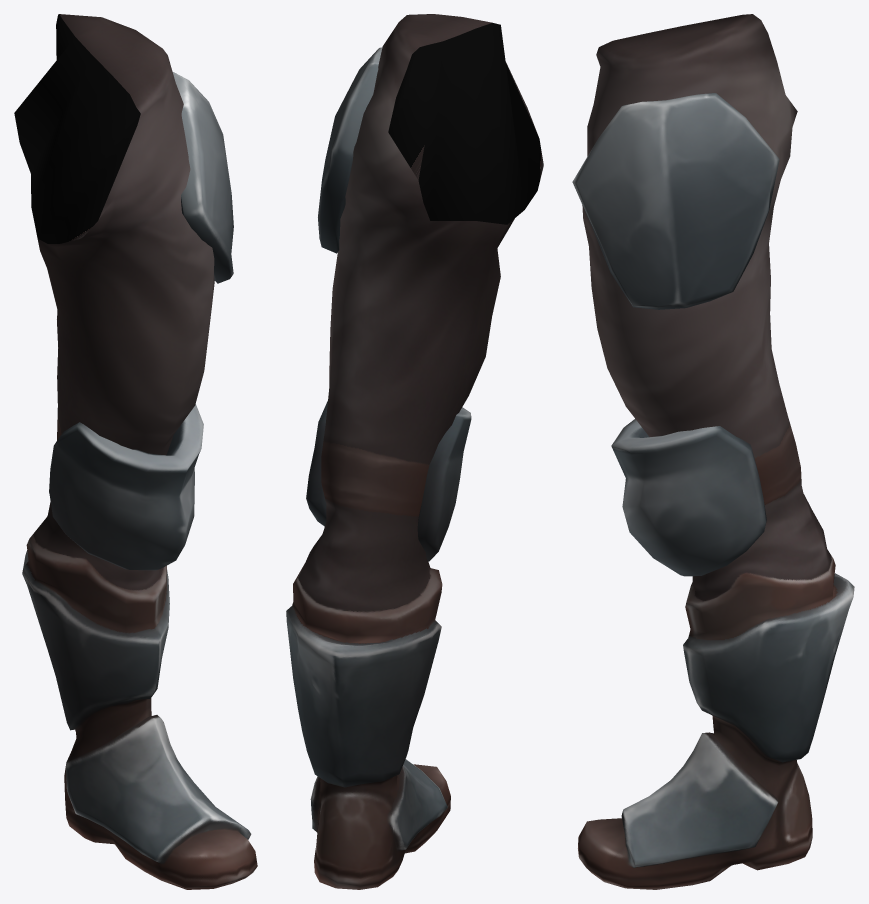
The model's file is M_LeftLeg.fbx.
The picture shows the model from 3 angles, left to right: view 1: azimuth 30°, elevation 25°; view 2: azimuth 150°, elevation 25°; view 3: azimuth 270°, elevation 25°; orthographic projection. The views are drawn at different scales.
Parts seen in each view (by area): view 1: Male_Legs_1.001; view 2: Male_Legs_1.001; view 3: Male_Legs_1.001.
Boxes of the visible parts, left/top/right/bottom form: Male_Legs_1.001: left=14, top=14, right=257, bottom=889; Male_Legs_1.001: left=286, top=14, right=543, bottom=889; Male_Legs_1.001: left=572, top=14, right=854, bottom=889.
Size of the model in its own units: 0.2415 by 1.02 by 0.3181.
